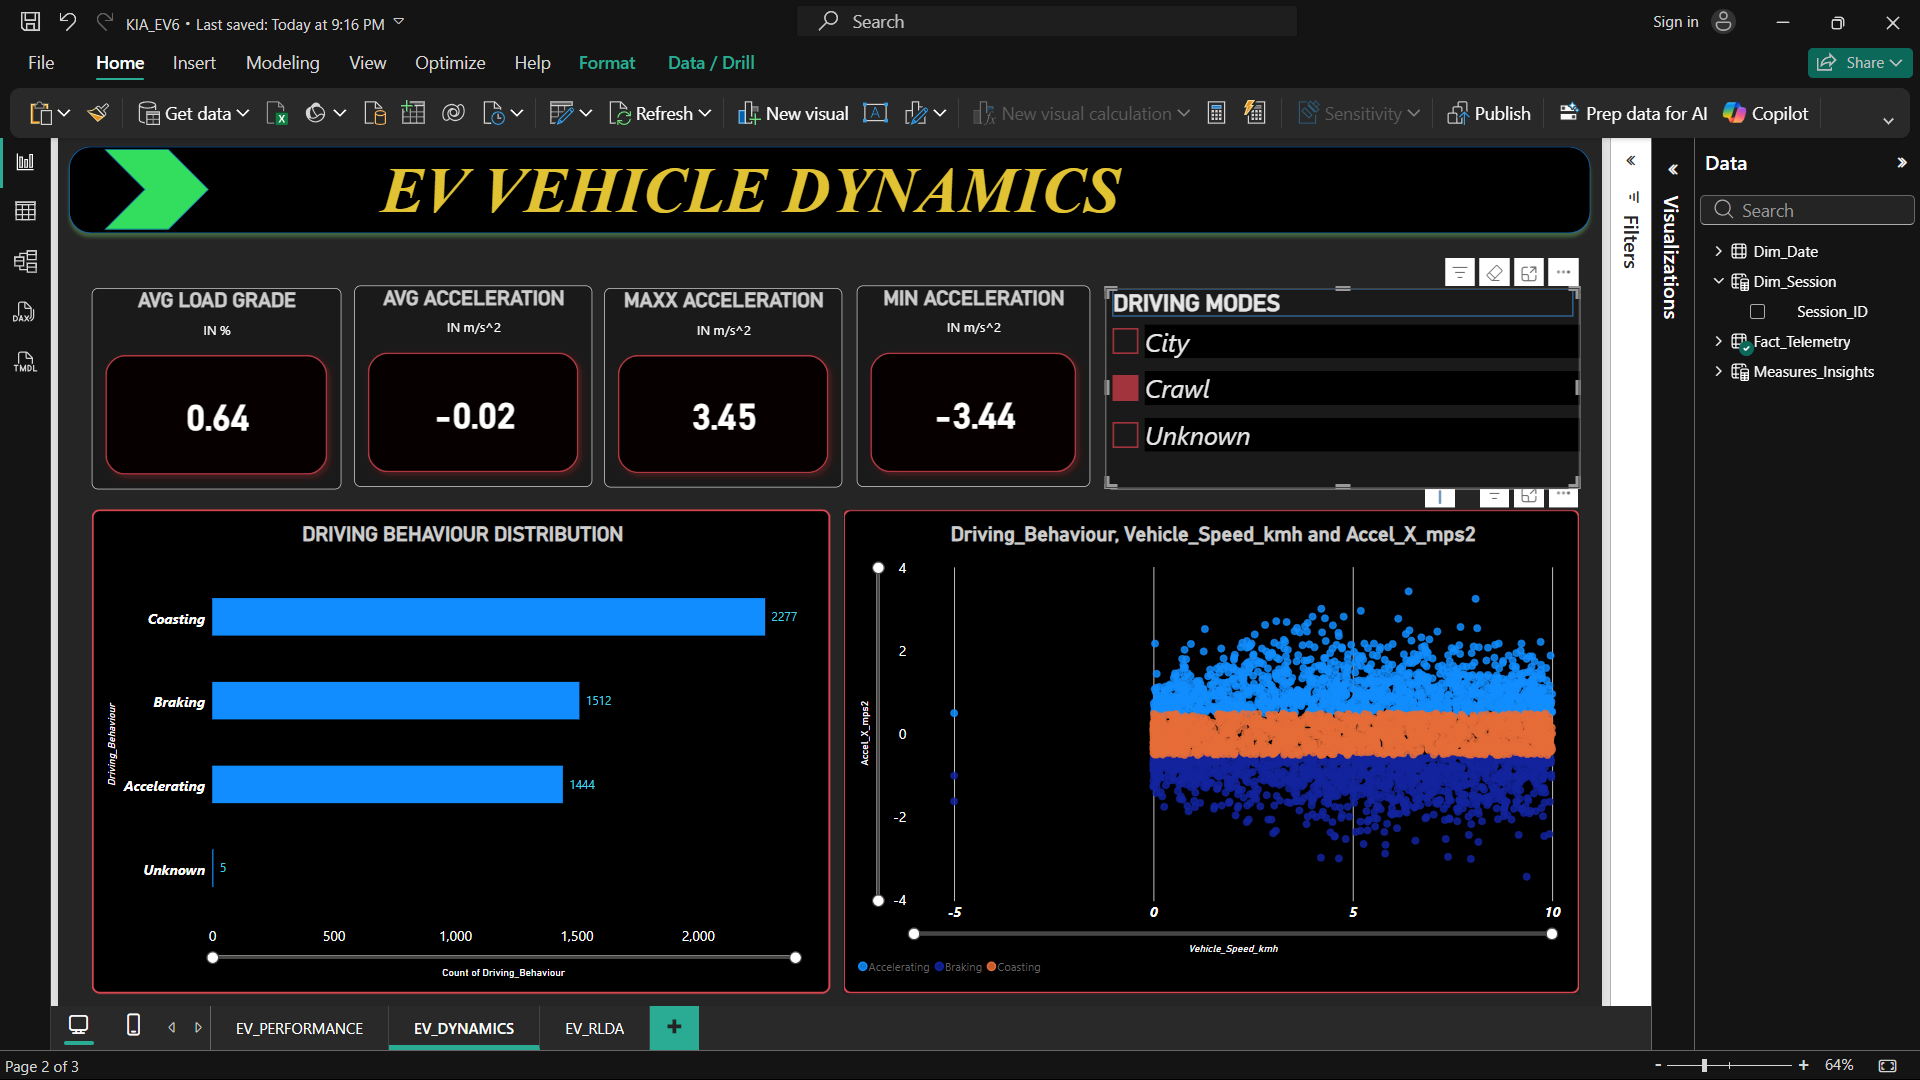

The page's visual inventory and layout, read from the dashboard file:
{"tool":"powerbi","page":{"name":"EV_DYNAMICS","canvas":[1920,1080],"ordinal":1},"visuals":[{"type":"shape","box":[4,2,1910,126],"z":0},{"type":"shape","box":[58,14,130,100],"z":1000},{"type":"textbox","box":[138,18,1426,94],"z":2000},{"type":"cardVisual","title":"AVG ACCELERATION","fields":{"Data":["Measures_Insights.Avg_Acceleration"]},"box":[368,184,296,250],"z":3000},{"type":"cardVisual","title":"AVG LOAD GRADE","fields":{"Data":["Measures_Insights.Avg_Road_Grade"]},"box":[42,186,310,250],"z":4000},{"type":"cardVisual","title":"MAXX ACCELERATION","fields":{"Data":["Measures_Insights.Max_Acceleration"]},"box":[680,186,296,248],"z":5000},{"type":"cardVisual","title":"MIN ACCELERATION","fields":{"Data":["Measures_Insights.Min_Accelaration"]},"box":[994,184,290,250],"z":6000},{"type":"clusteredBarChart","title":"DRIVING BEHAVIOUR DISTRIBUTION","fields":{"Y":["CountNonNull(Fact_Telemetry .Driving_Behaviour)"],"Category":["Fact_Telemetry .Driving_Behaviour"]},"box":[42,462,918,602],"z":7000},{"type":"scatterChart","fields":{"X":["Fact_Telemetry .Vehicle_Speed_kmh"],"Y":["Fact_Telemetry .Accel_X_mps2"],"Series":["Fact_Telemetry .Driving_Behaviour"]},"box":[976,462,916,602],"z":8000},{"type":"slicer","fields":{"Values":["Fact_Telemetry .Driving_Mode"]},"box":[1302,186,590,250],"z":8001}]}

Visuals, with their boxes on the page's 1920x1080 design canvas (x1, y1, x2, y2). These are canvas units, not pixel positions in the 1920x1080 screenshot, which may show the page scaled, cropped or inside an application window:
shape: 4/2/1914/128
shape: 58/14/188/114
textbox: 138/18/1564/112
"AVG ACCELERATION" cardVisual: 368/184/664/434
"AVG LOAD GRADE" cardVisual: 42/186/352/436
"MAXX ACCELERATION" cardVisual: 680/186/976/434
"MIN ACCELERATION" cardVisual: 994/184/1284/434
"DRIVING BEHAVIOUR DISTRIBUTION" clusteredBarChart: 42/462/960/1064
scatterChart - Fact_Telemetry .Vehicle_Speed_kmh x Fact_Telemetry .Accel_X_mps2: 976/462/1892/1064
slicer - Fact_Telemetry .Driving_Mode: 1302/186/1892/436
